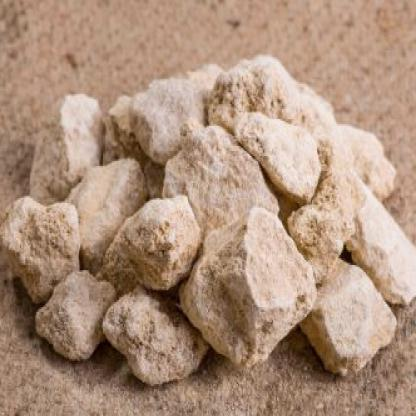Sedimentary_Limestone: (181, 203, 330, 372), (293, 242, 400, 389), (205, 50, 326, 141), (98, 288, 210, 382), (101, 198, 202, 299), (32, 83, 110, 207), (1, 195, 83, 310), (113, 81, 218, 161), (25, 268, 115, 359), (235, 119, 335, 198)
